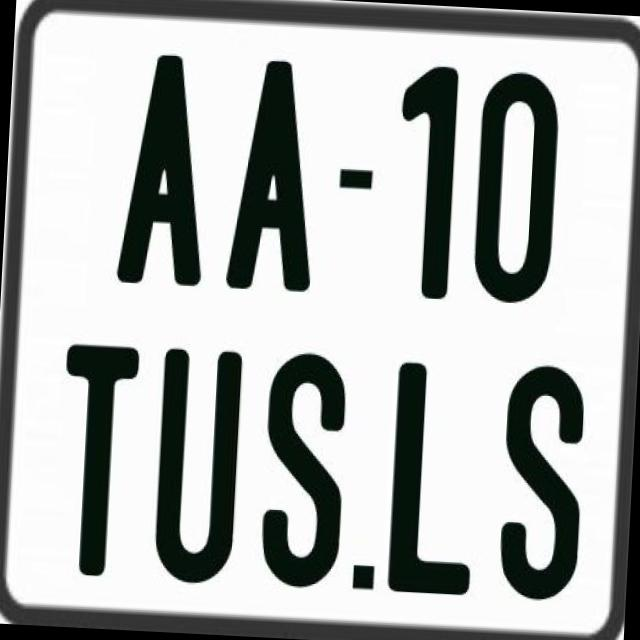0: (472, 69, 566, 304)
1: (390, 60, 464, 303)
A: (224, 56, 328, 292), (112, 52, 214, 291)
L: (383, 359, 482, 592)
S: (493, 364, 591, 606), (259, 347, 354, 590)
T: (53, 340, 140, 576)
U: (148, 347, 240, 592)
